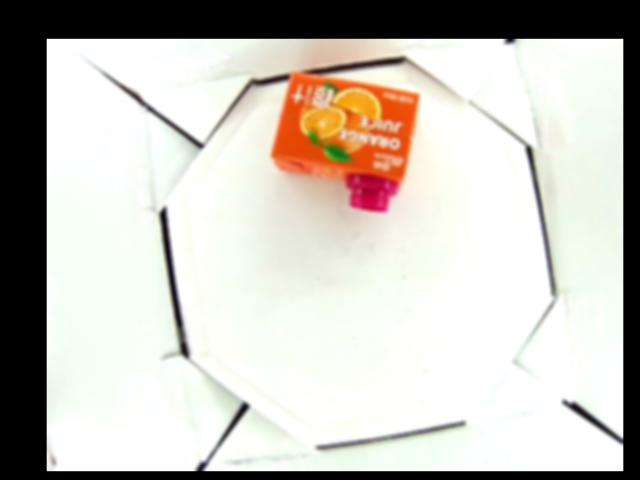Bottle: (271, 69, 420, 214)
